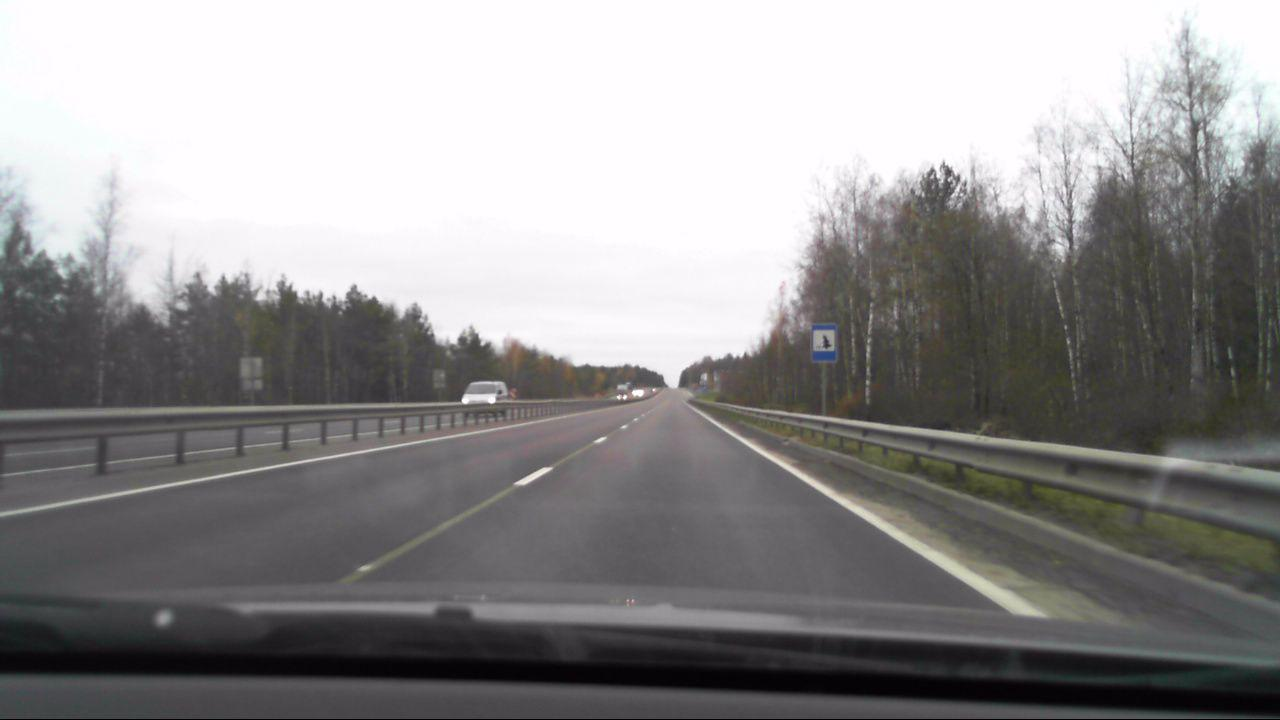7_11: (810, 322, 838, 362)
